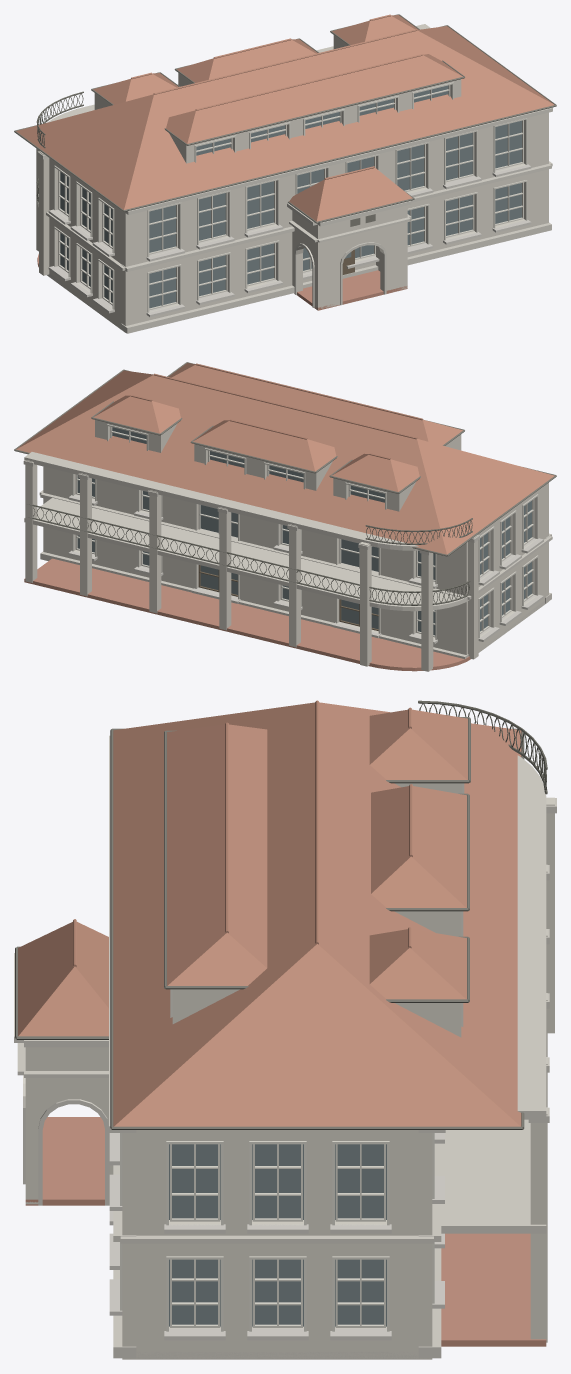
Rendered from jingan-huashan-american-school-office-lod.glb.
3 renders of one model, top to bottom at view 1: azimuth 30°, elevation 25°; view 2: azimuth 150°, elevation 25°; view 3: azimuth 270°, elevation 25°, orthographic. The views are drawn at different scales.
Visible parts, largest first — view 1: 华山路原美国学校办公楼; view 2: 华山路原美国学校办公楼; view 3: 华山路原美国学校办公楼.
Part boxes in pixels (<box>): 华山路原美国学校办公楼: <box>14,14,556,333</box>; 华山路原美国学校办公楼: <box>14,362,556,671</box>; 华山路原美国学校办公楼: <box>14,700,556,1359</box>.
Bounding box in the file's own units: 29.97 × 11.98 × 17.16.
